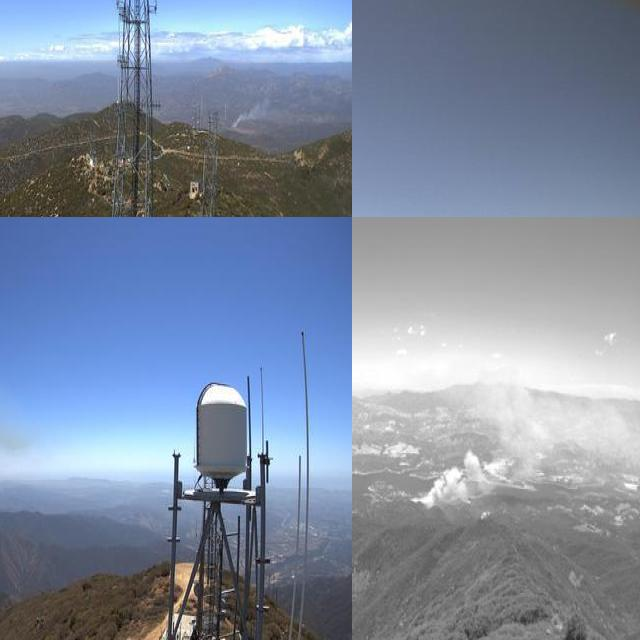smoke: (407, 366, 611, 520), (227, 84, 291, 135)
